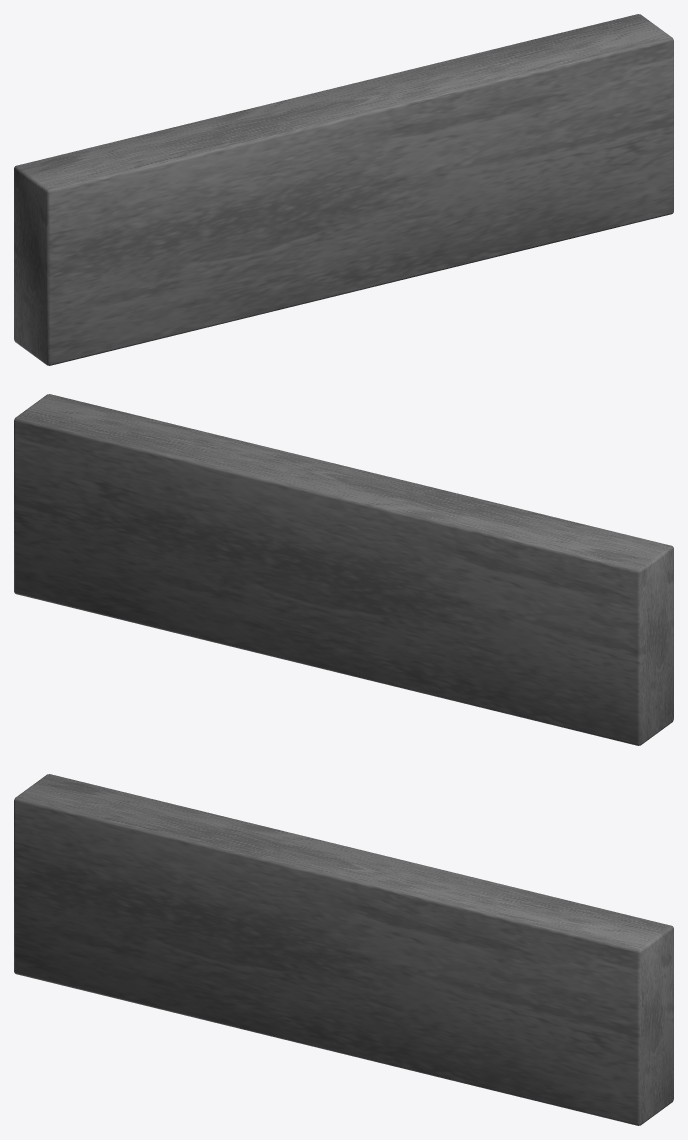
Rendered from Rockwall_Cvl_12-10-25.fbx.
The picture shows the model from 3 angles, top to bottom: view 1: azimuth 30°, elevation 25°; view 2: azimuth 150°, elevation 25°; view 3: azimuth 330°, elevation 25°; orthographic projection.
Parts seen in each view (by area): view 1: Wall; view 2: Wall; view 3: Wall.
Boxes of the visible parts, <box> form: Wall: <box>14,14,673,365</box>; Wall: <box>14,394,673,745</box>; Wall: <box>14,774,673,1125</box>.
Size of the model in its own units: 461 by 124 by 44.92.
Materials: 1 (1 with a texture image).
